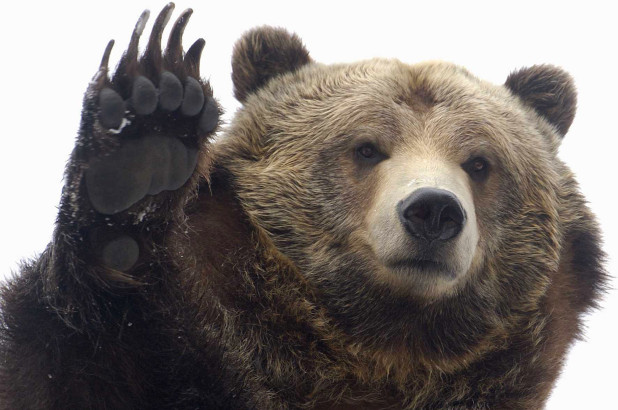bear: (219, 20, 615, 374)
